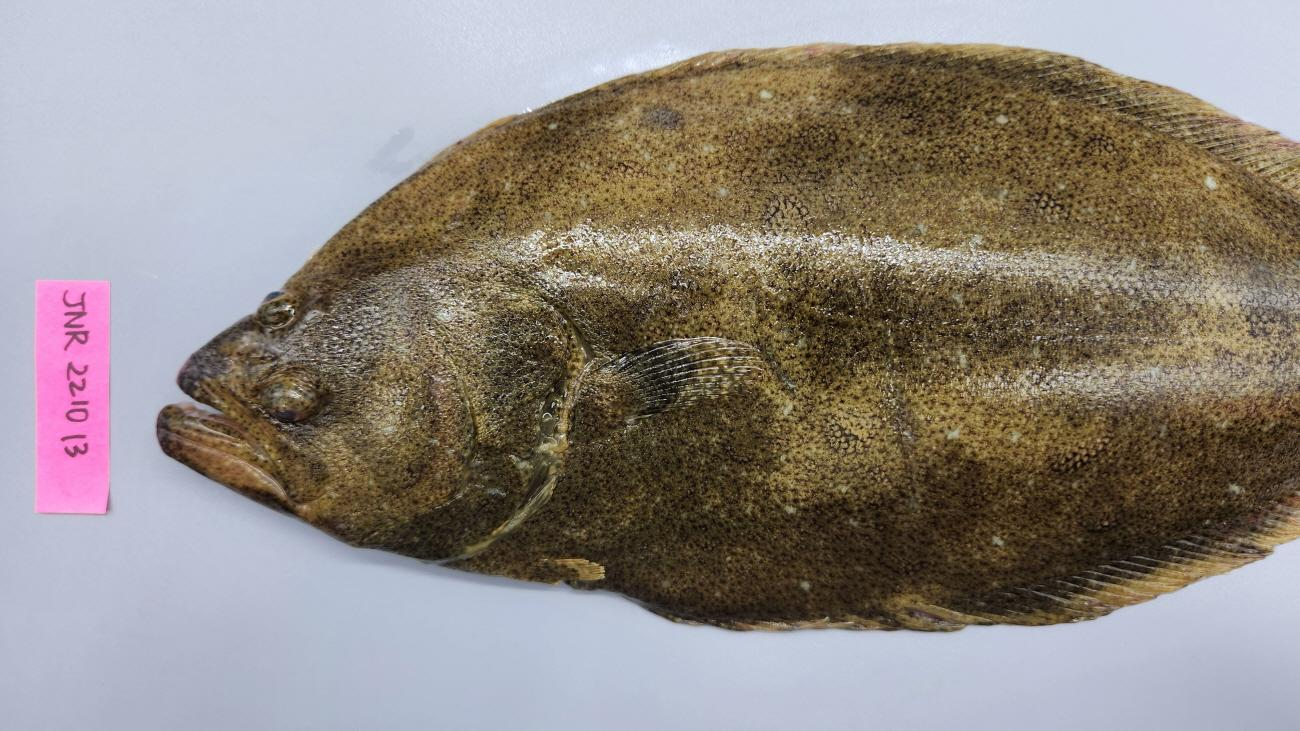POOUN: (156, 42, 1300, 632)
